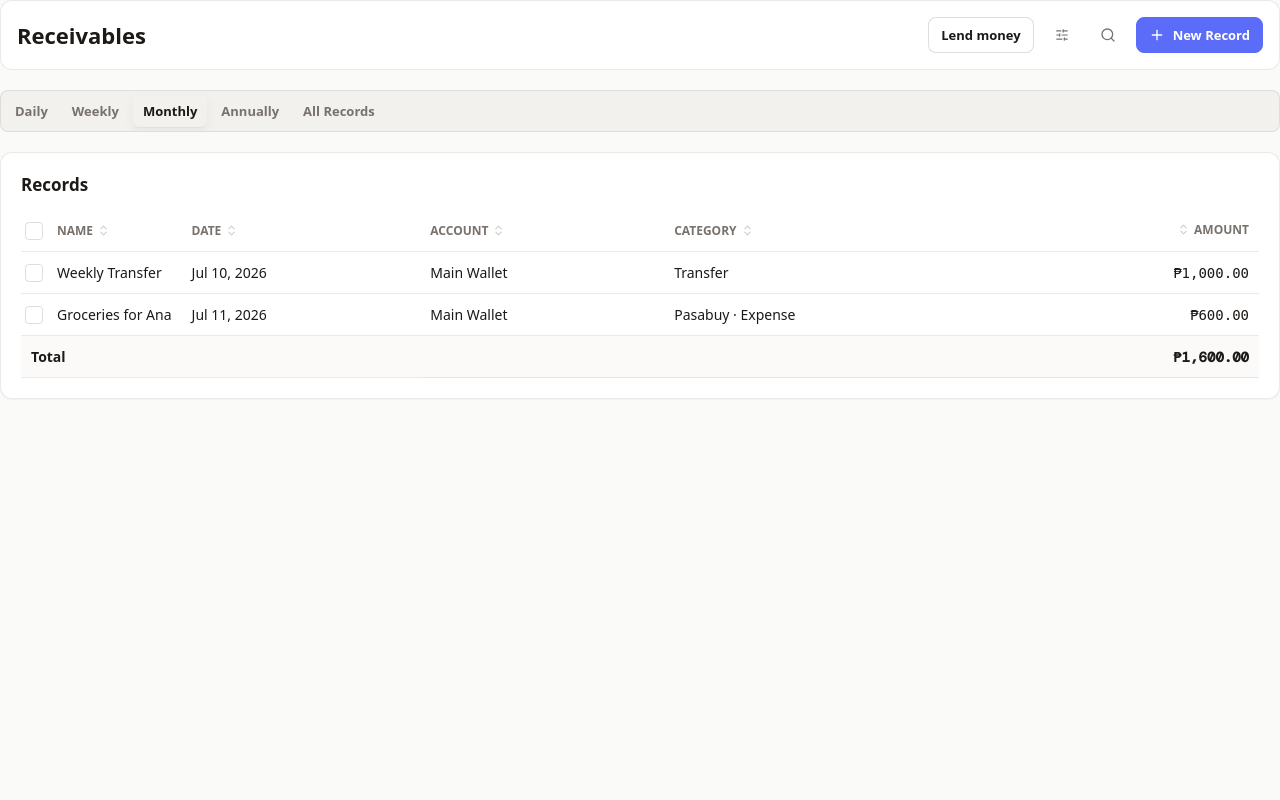
it: WorkflowPage › includes eligible Pasabuy expenses in Receivables and opens Pasabuy-only details
Expected: the text "Pasabuy · Expense" is shown, [664,294,1019,336]
Expected: the text "₱600.00" is shown, [1190,307,1249,323]
Click the text "Groceries for Ana". click: [101, 314]
box: [21,294,182,336]
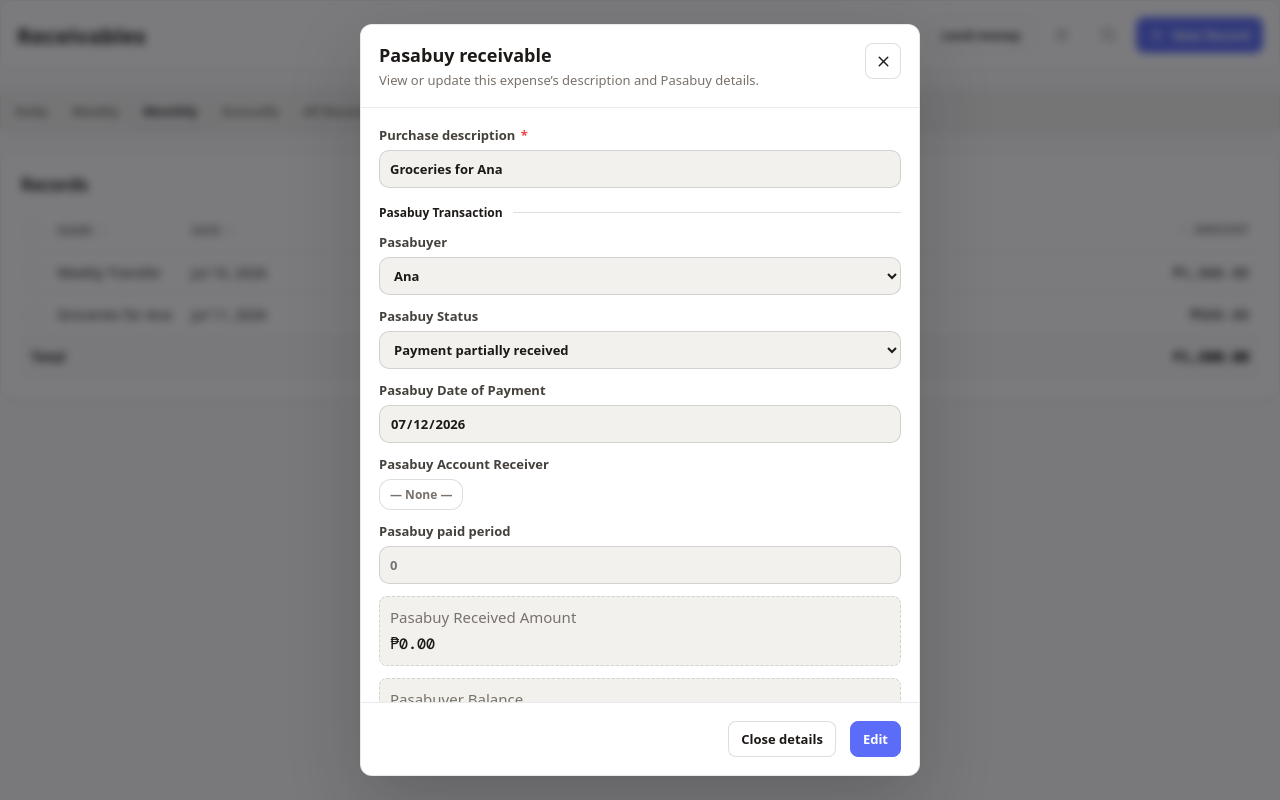
Now the field labelled "Purchase description *" holds "Groceries for Ana", box [379,150,901,188]
Now the dropdown labelled "Pasabuy Status" is shown, box [379,331,901,369]
